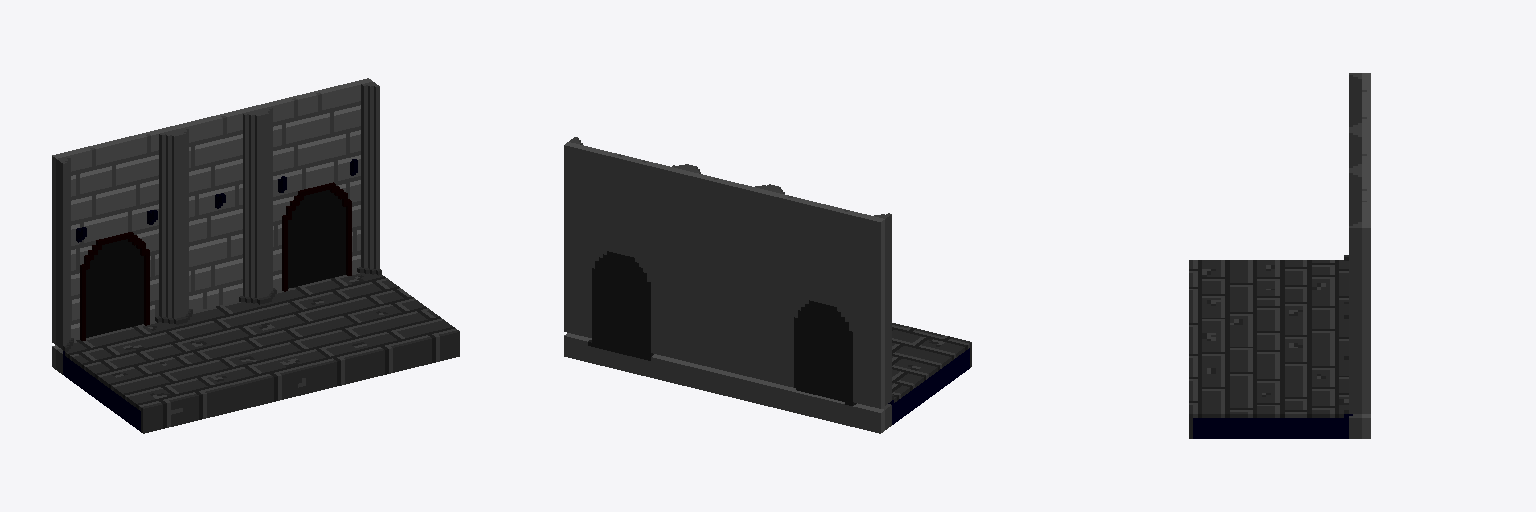
The picture shows the model from 3 angles: view 1: azimuth 30°, elevation 25°; view 2: azimuth 150°, elevation 25°; view 3: azimuth 270°, elevation 25°; orthographic projection.
Visible parts, largest first — view 1: Dungeon; view 2: Dungeon; view 3: Dungeon.
Boxes of the visible parts, x1,y1,x2,y2 form: Dungeon: [52, 78, 459, 433]; Dungeon: [564, 137, 971, 433]; Dungeon: [1189, 73, 1370, 438].
Size of the model in its own units: 80 by 51 by 40.
Materials: 1 (1 with a texture image).